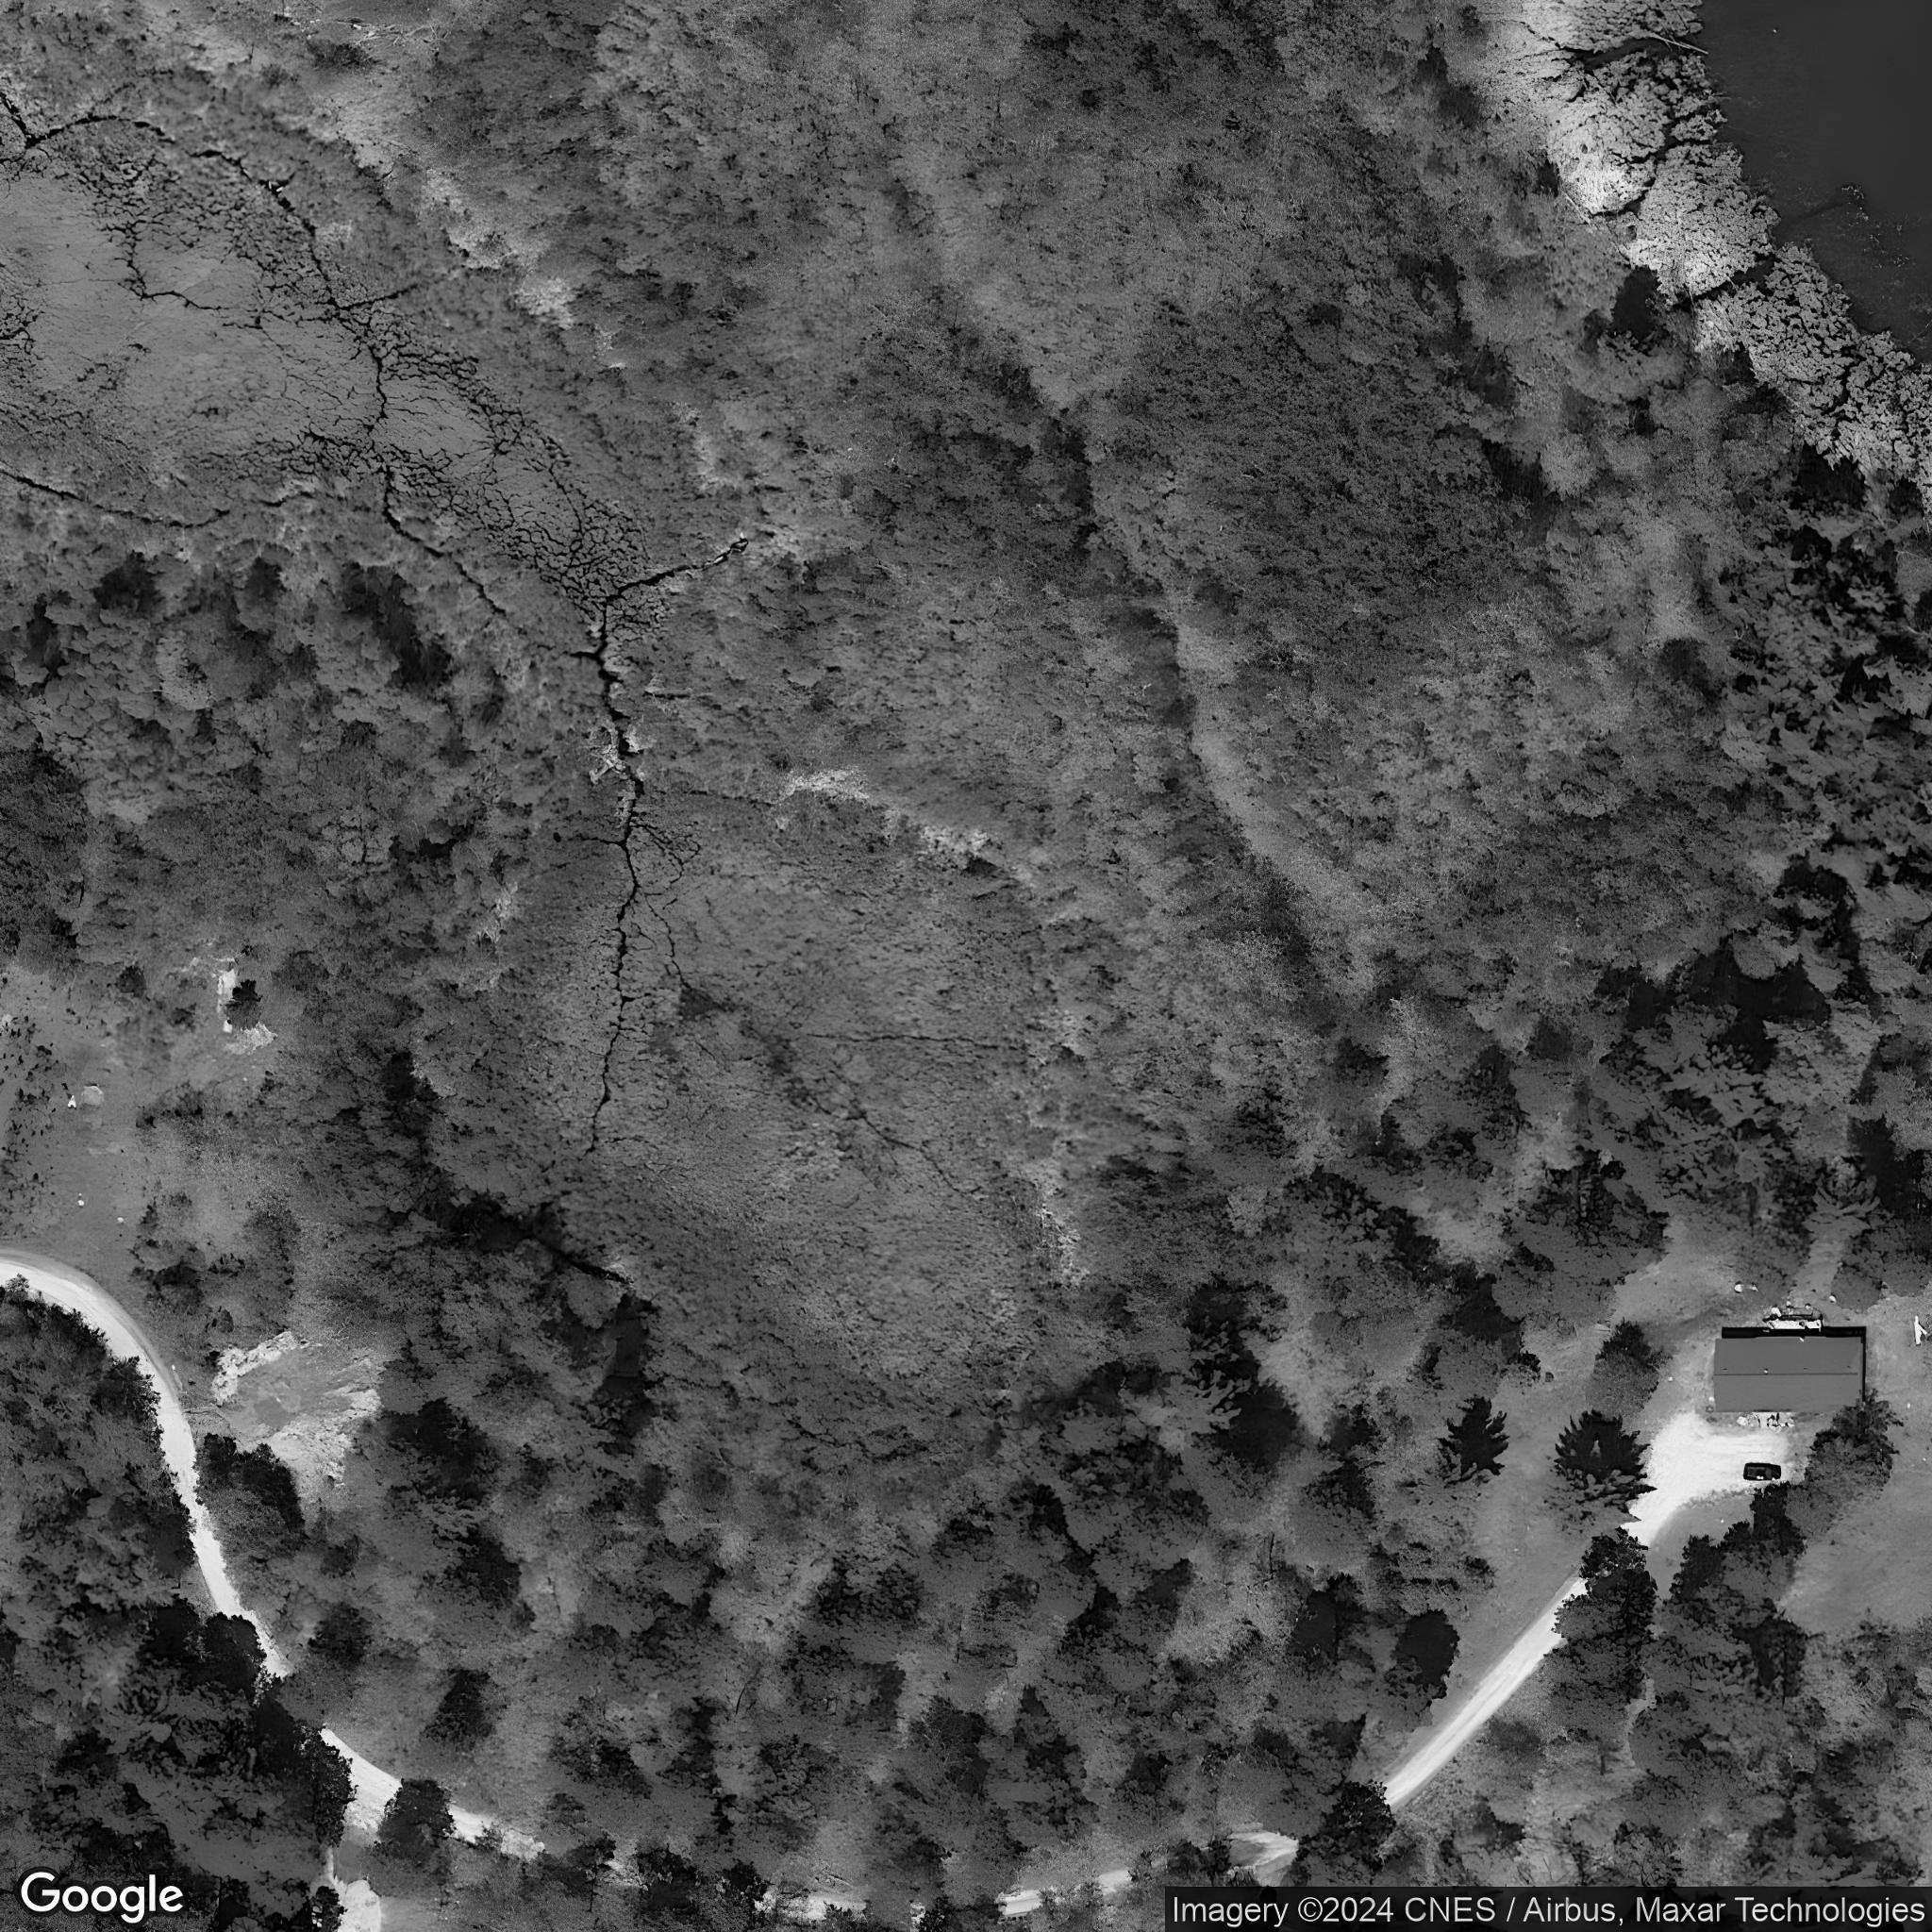House: (1713, 1334, 1865, 1412)
